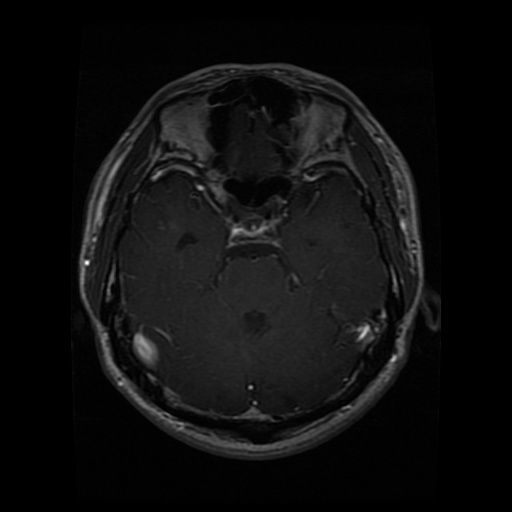glioma: (171, 231, 198, 254)
